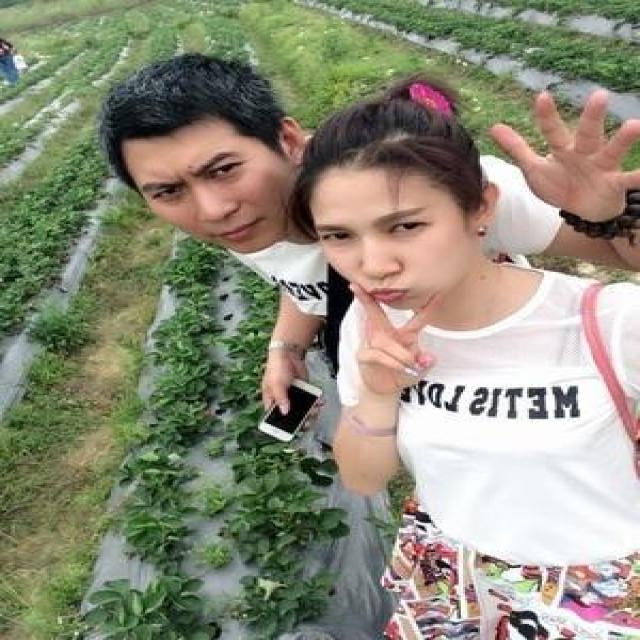short sleeve top: (339, 270, 638, 557), (224, 158, 567, 344)
skirt: (382, 498, 638, 638)
